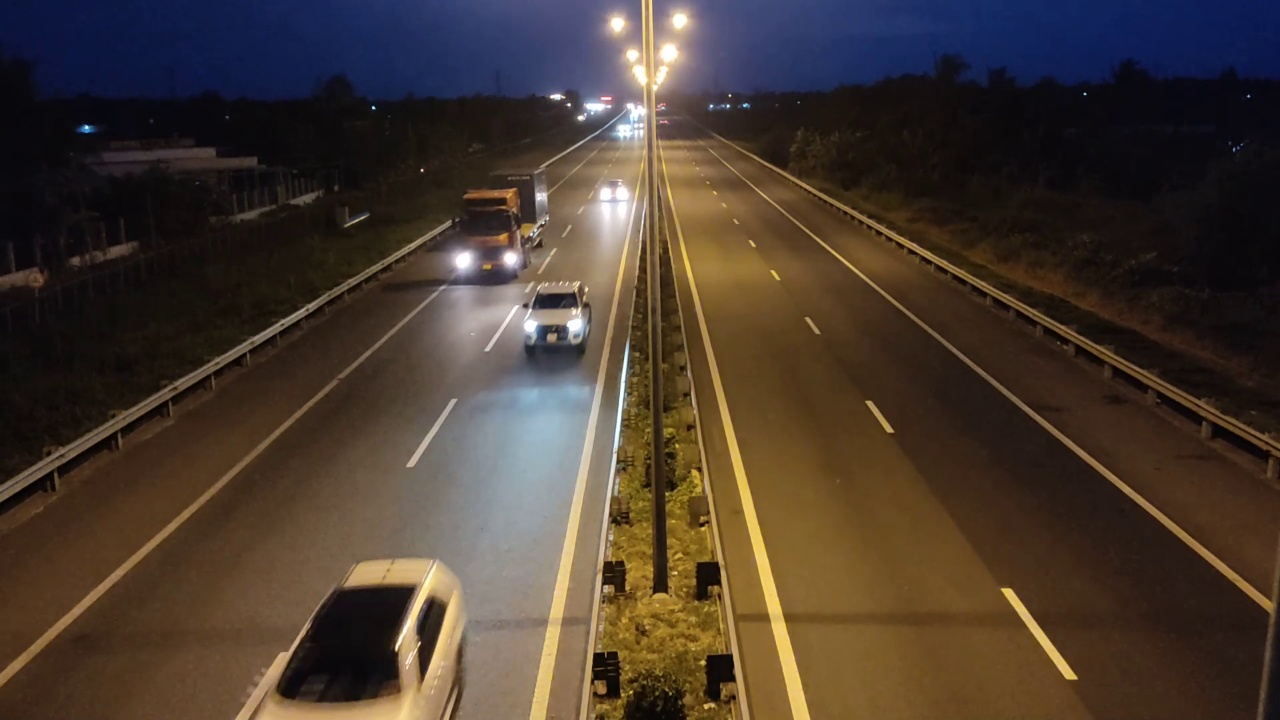car: (241, 557, 469, 719), (522, 280, 593, 358)
truck: (438, 166, 547, 288)
